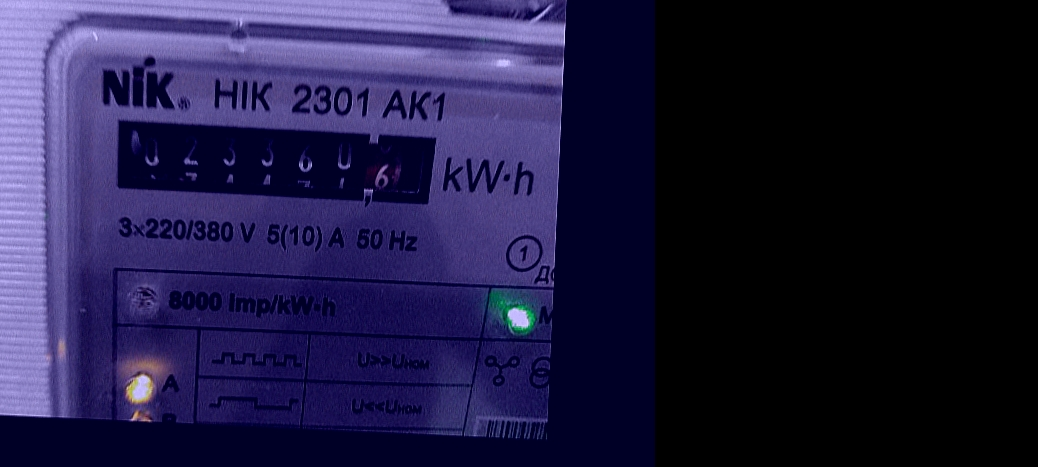0: (140, 132, 163, 168), (333, 136, 356, 172)
2: (180, 131, 202, 167)
3: (219, 133, 240, 169), (258, 134, 277, 169)
6: (295, 139, 316, 174), (372, 157, 391, 191)
screen: (101, 107, 456, 222)
